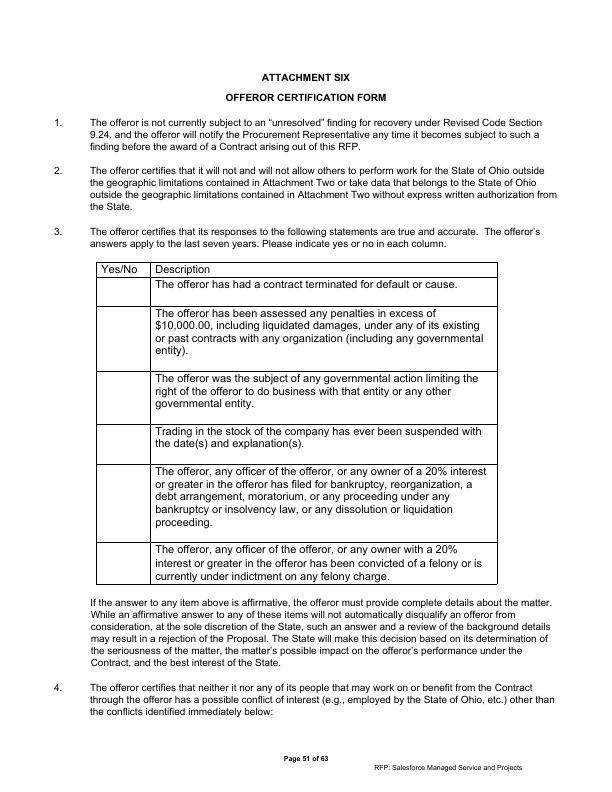table: (91, 257, 503, 589)
text: (86, 595, 561, 671), (49, 162, 566, 212), (48, 681, 565, 725), (54, 114, 549, 153), (48, 224, 561, 252), (221, 66, 399, 107), (371, 758, 527, 777), (280, 752, 331, 764)
